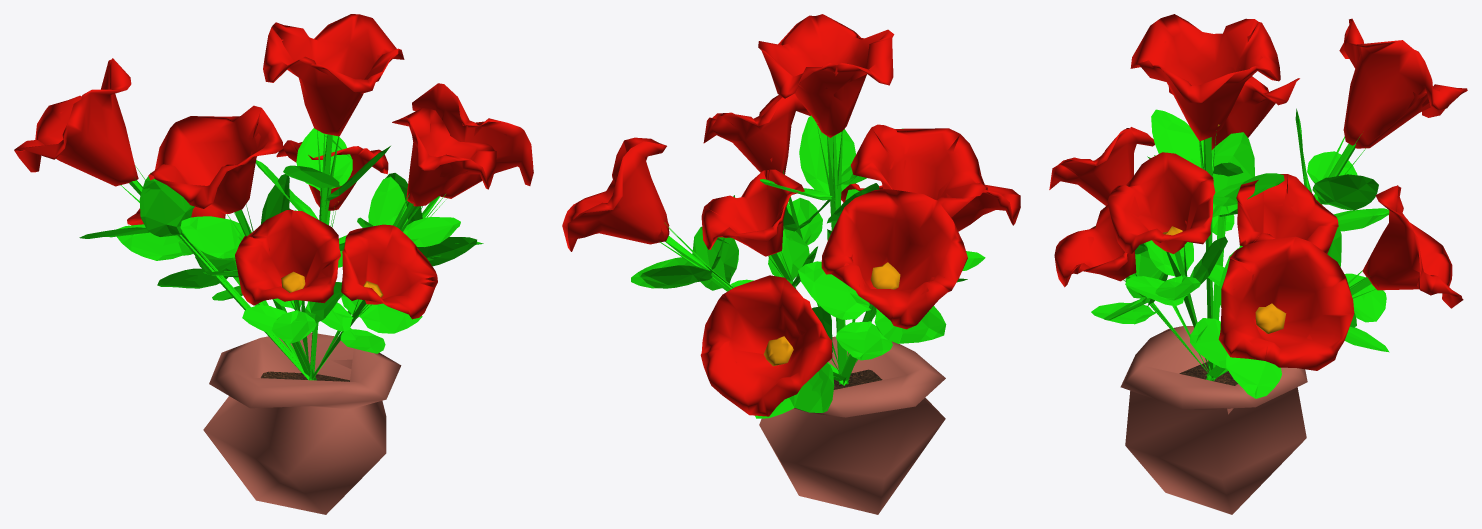
Rendered from FlowerInPot.glb.
3 renders of one model, left to right at view 1: azimuth 30°, elevation 25°; view 2: azimuth 150°, elevation 25°; view 3: azimuth 270°, elevation 25°, orthographic. The views are drawn at different scales.
Parts seen in each view (by area): view 1: flower.005; view 2: flower.005; view 3: flower.005.
Part boxes in pixels (x1,y1,x2,y2): flower.005: [14, 14, 533, 514]; flower.005: [562, 14, 1020, 514]; flower.005: [1049, 14, 1467, 514].
Size of the model in its own units: 6.97 by 6.78 by 5.48.
29 materials, 1 textured.
